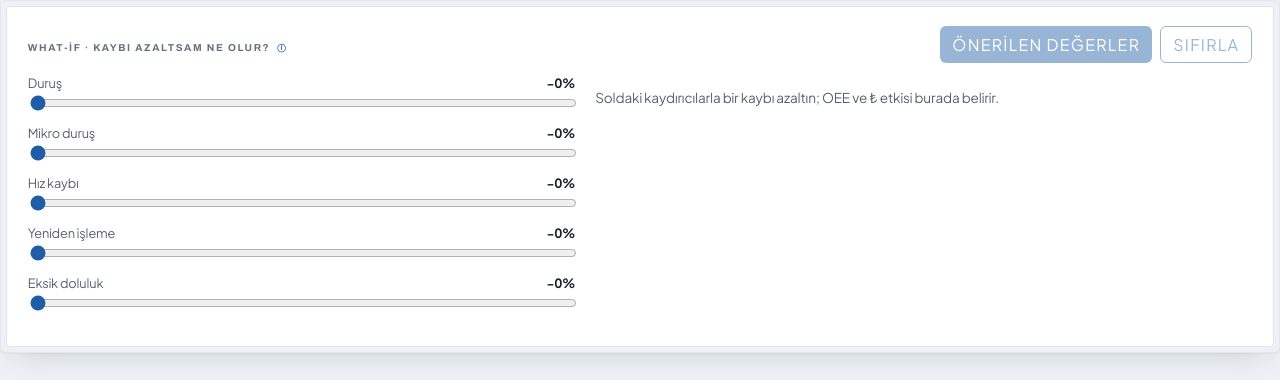
Test: WhatIf › pasifken ipucu gosterir, slider degisince /whatif cagirir
Expected: the text "kayd.r.c.larla" is shown, [595, 89, 999, 106]
Set the slider named "Duruş azaltım yüzdesi" to "30": (357, 103) [30, 95, 577, 111]
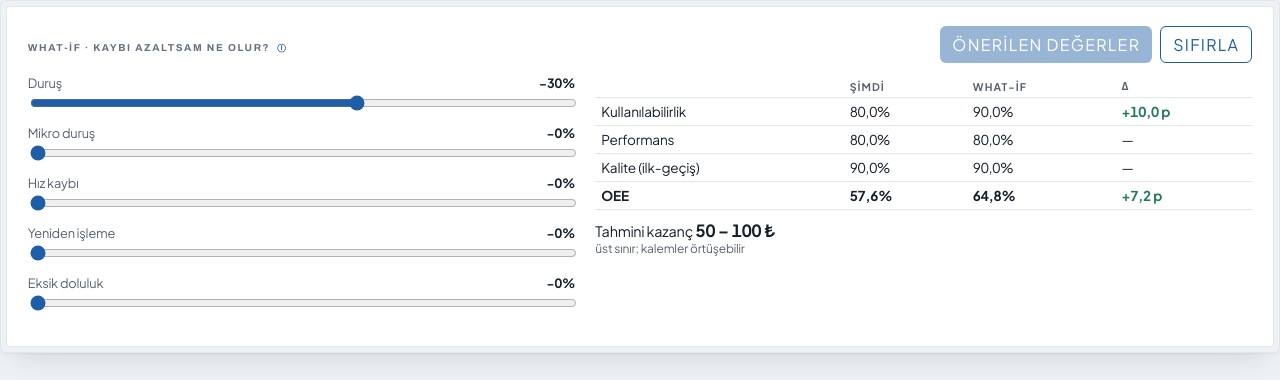
Now the column heading "What-if" is shown, box [967, 75, 1116, 98]
